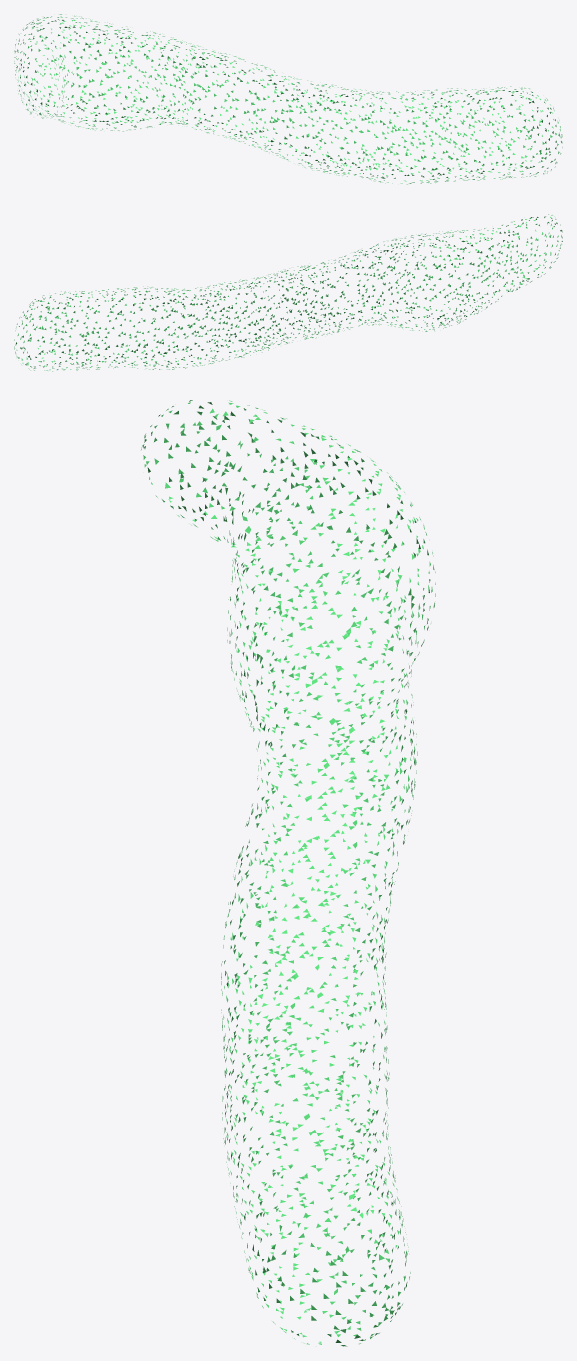
Rendered from morph_020.glb.
3 views of the same model, one above another, from view 1: azimuth 30°, elevation 25°; view 2: azimuth 150°, elevation 25°; view 3: azimuth 270°, elevation 25° (orthographic). The views are drawn at different scales.
Size of the model in its own units: 137 by 64.55 by 35.43.
